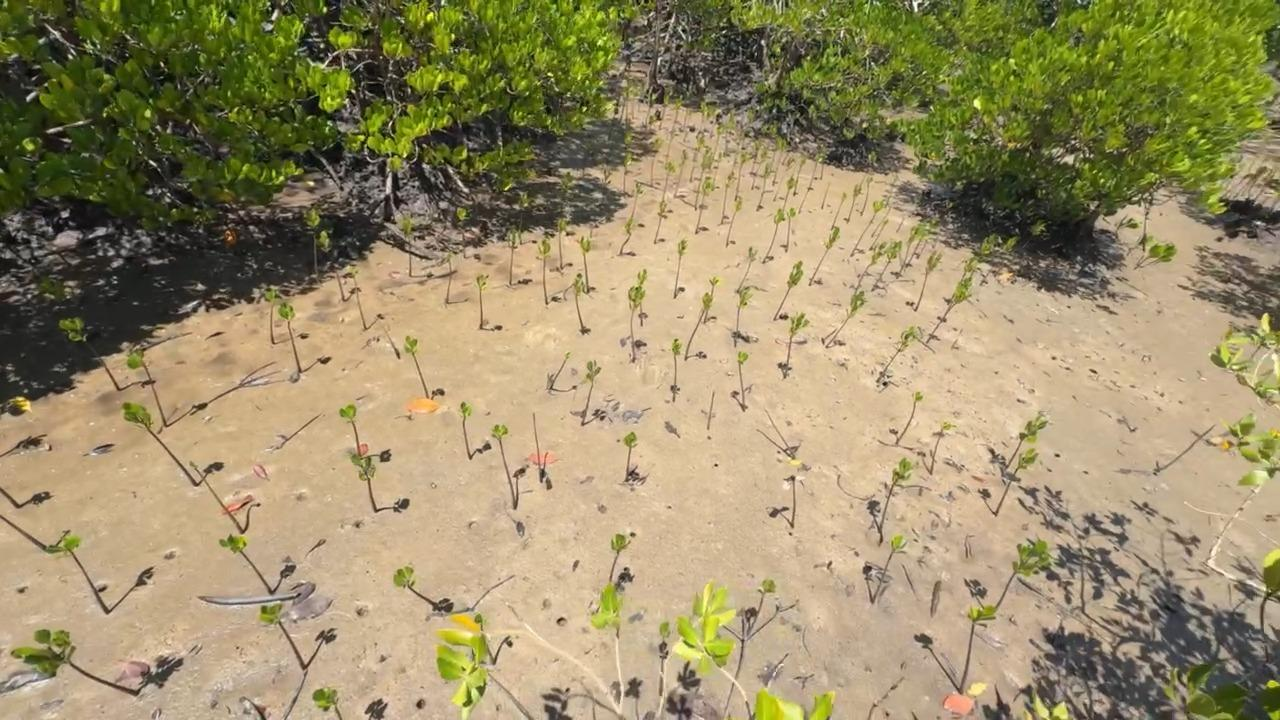Tree: (10, 629, 140, 697), (120, 402, 199, 487), (46, 535, 111, 615), (59, 317, 121, 390), (189, 461, 244, 534), (996, 539, 1052, 609), (218, 533, 274, 595), (126, 348, 168, 428), (960, 606, 997, 695), (926, 276, 973, 345), (259, 603, 307, 670), (994, 448, 1039, 517), (1153, 424, 1216, 473), (994, 221, 1047, 278), (877, 456, 914, 531), (870, 534, 908, 603), (1005, 414, 1052, 469), (826, 291, 868, 349), (876, 326, 918, 383), (491, 424, 517, 509), (316, 231, 346, 301), (798, 146, 828, 214), (854, 242, 892, 295), (684, 292, 713, 361), (980, 236, 1019, 286), (850, 200, 884, 257), (773, 260, 804, 321), (393, 566, 438, 608), (808, 227, 839, 286), (0, 514, 48, 552), (784, 312, 810, 379), (914, 250, 942, 312), (279, 302, 303, 373), (404, 335, 430, 399), (350, 454, 378, 512), (748, 578, 777, 634), (871, 240, 902, 292), (948, 255, 979, 305), (895, 390, 923, 445), (929, 422, 957, 475), (580, 359, 602, 426), (628, 284, 646, 363), (1134, 241, 1178, 271), (347, 268, 368, 330), (694, 147, 714, 211), (762, 207, 784, 265), (896, 226, 920, 279), (905, 221, 931, 269), (339, 404, 362, 456), (473, 613, 496, 665), (970, 233, 996, 279), (608, 533, 631, 583), (734, 285, 752, 348), (667, 93, 684, 159), (694, 176, 713, 235), (304, 207, 321, 272), (735, 246, 758, 293), (312, 687, 343, 720), (673, 238, 689, 299), (724, 196, 743, 247), (916, 217, 939, 259), (658, 622, 671, 696), (537, 238, 551, 305), (734, 150, 752, 202), (263, 287, 279, 345), (399, 215, 413, 277), (703, 276, 721, 324), (719, 172, 735, 225), (689, 131, 705, 183), (623, 432, 639, 482), (756, 162, 772, 212), (673, 149, 689, 199), (657, 84, 674, 130), (695, 100, 715, 139), (459, 401, 472, 460), (550, 352, 570, 390), (518, 191, 532, 244), (751, 150, 769, 191), (772, 138, 787, 186), (476, 274, 489, 329), (672, 338, 683, 403), (532, 412, 542, 483), (870, 205, 892, 237), (240, 695, 268, 720), (740, 106, 756, 149), (575, 273, 586, 335), (650, 135, 663, 187), (722, 109, 736, 156), (846, 183, 862, 224), (644, 86, 660, 127), (580, 235, 591, 294), (637, 268, 648, 327), (869, 219, 889, 251), (793, 154, 808, 196), (653, 200, 667, 244), (738, 351, 748, 412), (831, 192, 847, 230), (749, 137, 765, 174), (662, 160, 676, 202), (619, 217, 634, 256), (559, 172, 573, 212), (860, 151, 877, 183), (785, 207, 797, 252), (782, 176, 797, 212), (384, 329, 401, 359), (557, 218, 567, 269), (508, 228, 517, 284), (1115, 214, 1144, 231), (885, 174, 899, 209), (0, 486, 21, 509), (861, 177, 873, 216), (625, 82, 635, 128), (456, 207, 465, 257), (624, 128, 633, 175), (712, 122, 724, 157), (445, 253, 453, 304), (632, 83, 643, 120), (631, 182, 642, 218), (623, 151, 632, 194), (620, 80, 629, 121), (770, 136, 781, 169), (766, 121, 778, 150), (773, 175, 785, 202), (790, 475, 796, 528), (707, 391, 715, 430), (683, 108, 692, 142), (821, 183, 831, 209), (1136, 235, 1158, 246), (723, 127, 729, 159), (896, 217, 905, 233), (821, 161, 824, 181), (710, 123, 714, 138)
